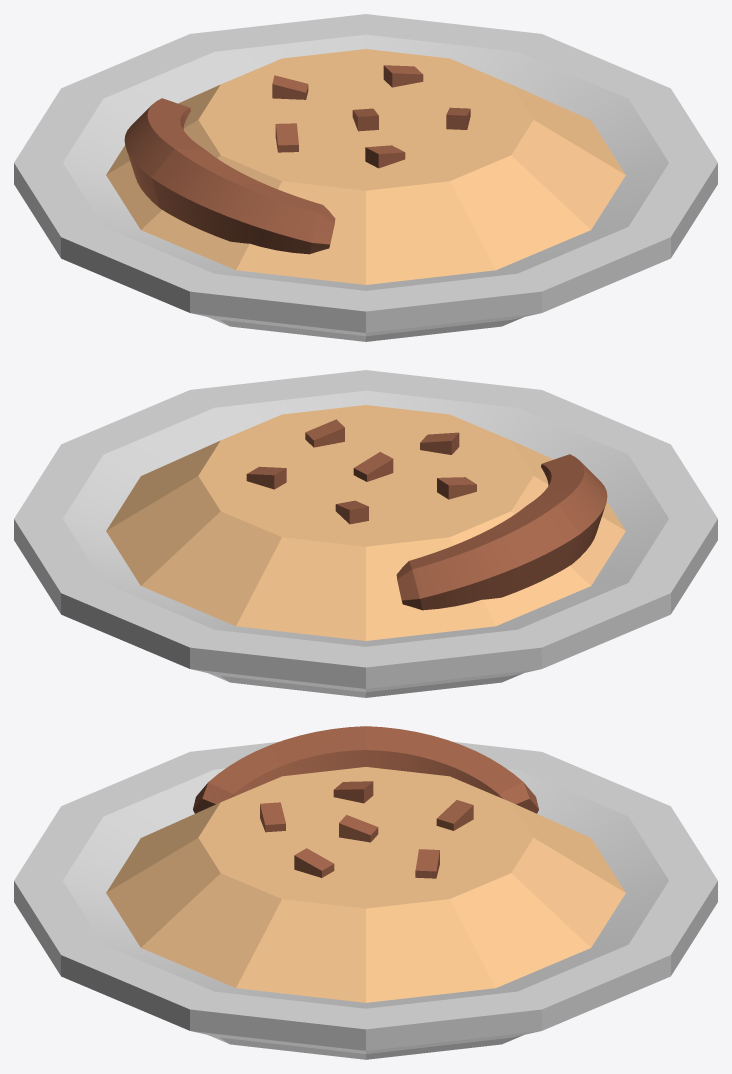
Rendered from plateSauerkraut.obj.
3 views of the same model, one above another, from view 1: azimuth 30°, elevation 25°; view 2: azimuth 150°, elevation 25°; view 3: azimuth 270°, elevation 25° (orthographic).
Visible parts, largest first — view 1: plateSauerkraut, sausage; view 2: plateSauerkraut, sausage; view 3: plateSauerkraut, sausage.
Boxes of the visible parts, x1,y1,x2,y2 form: plateSauerkraut: [14, 14, 717, 341]; sausage: [124, 98, 335, 254]; plateSauerkraut: [14, 370, 717, 697]; sausage: [396, 454, 607, 610]; plateSauerkraut: [14, 741, 717, 1059]; sausage: [193, 726, 538, 813].
Size of the model in its own units: 0.8918 by 0.1752 by 0.8918.
